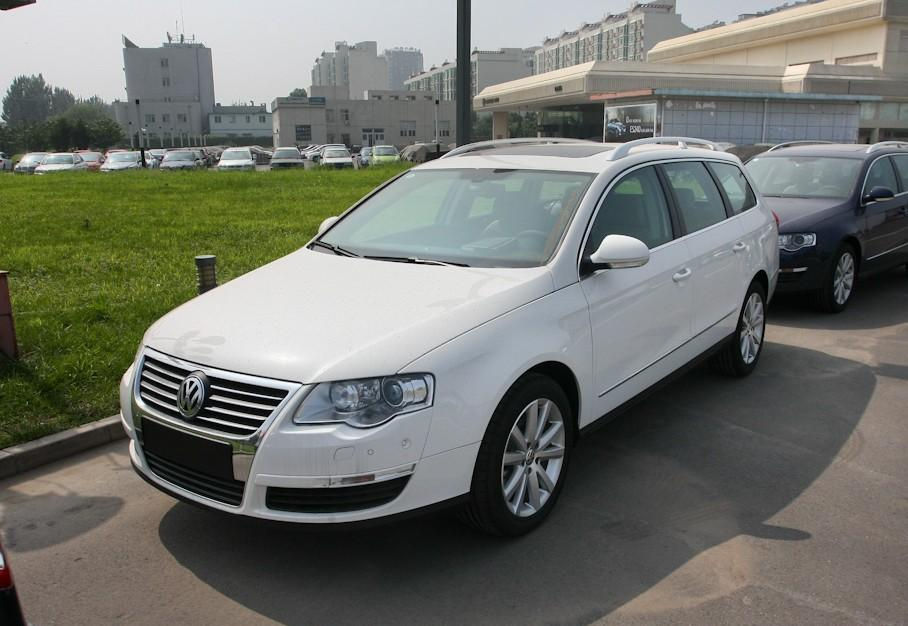Wagon: (120, 140, 781, 542)
